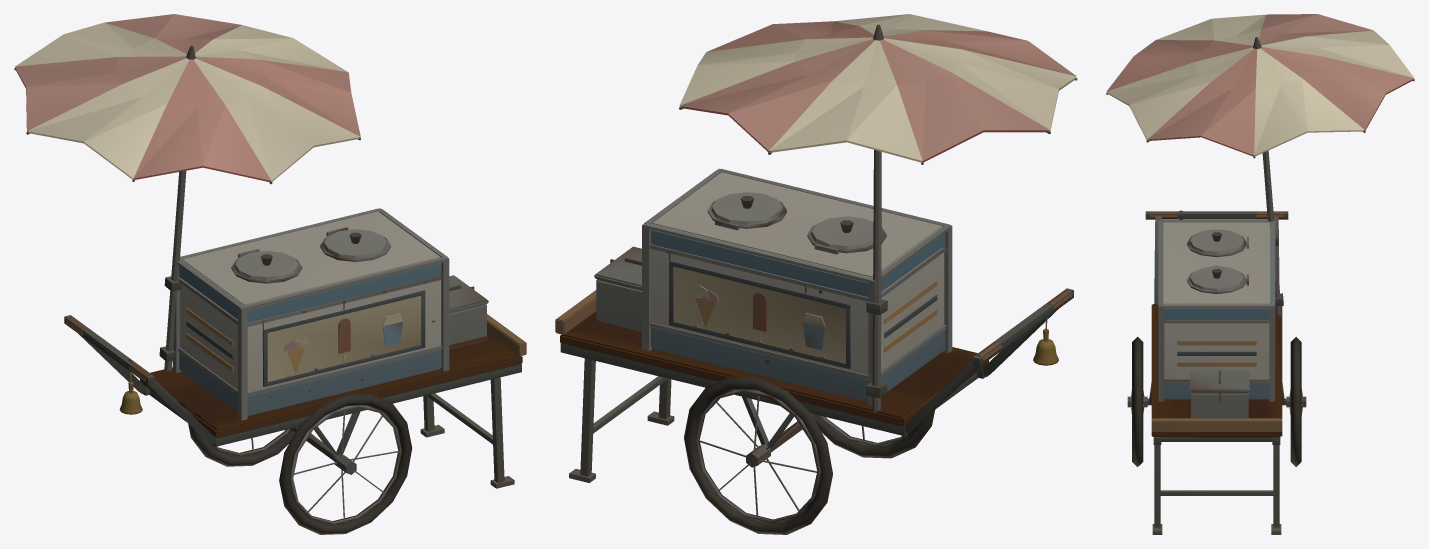
Rendered from icecream_cart.glb.
The picture shows the model from 3 angles, left to right: view 1: azimuth 30°, elevation 25°; view 2: azimuth 150°, elevation 25°; view 3: azimuth 270°, elevation 25°; orthographic projection. The views are drawn at different scales.
Parts seen in each view (by area): view 1: hb_metal, hb_thatch, hb_wood, hb_main; view 2: hb_metal, hb_thatch, hb_wood, hb_main; view 3: hb_thatch, hb_metal, hb_wood, hb_main.
Part boxes in pixels (x1=…): hb_metal: x1=14, y1=45, x2=521, y2=524; hb_thatch: x1=15, y1=14, x2=360, y2=182; hb_wood: x1=65, y1=314, x2=526, y2=438; hb_main: x1=129, y1=371, x2=412, y2=534; hb_metal: x1=560, y1=24, x2=1077, y2=522; hb_thatch: x1=679, y1=14, x2=1076, y2=162; hb_wood: x1=555, y1=290, x2=1072, y2=426; hb_main: x1=684, y1=317, x2=1047, y2=534; hb_thatch: x1=1106, y1=14, x2=1414, y2=156; hb_metal: x1=1106, y1=37, x2=1414, y2=534; hb_wood: x1=1149, y1=211, x2=1284, y2=437; hb_main: x1=1132, y1=336, x2=1301, y2=466.
Size of the model in its own units: 2.14 by 2.17 by 1.56.
